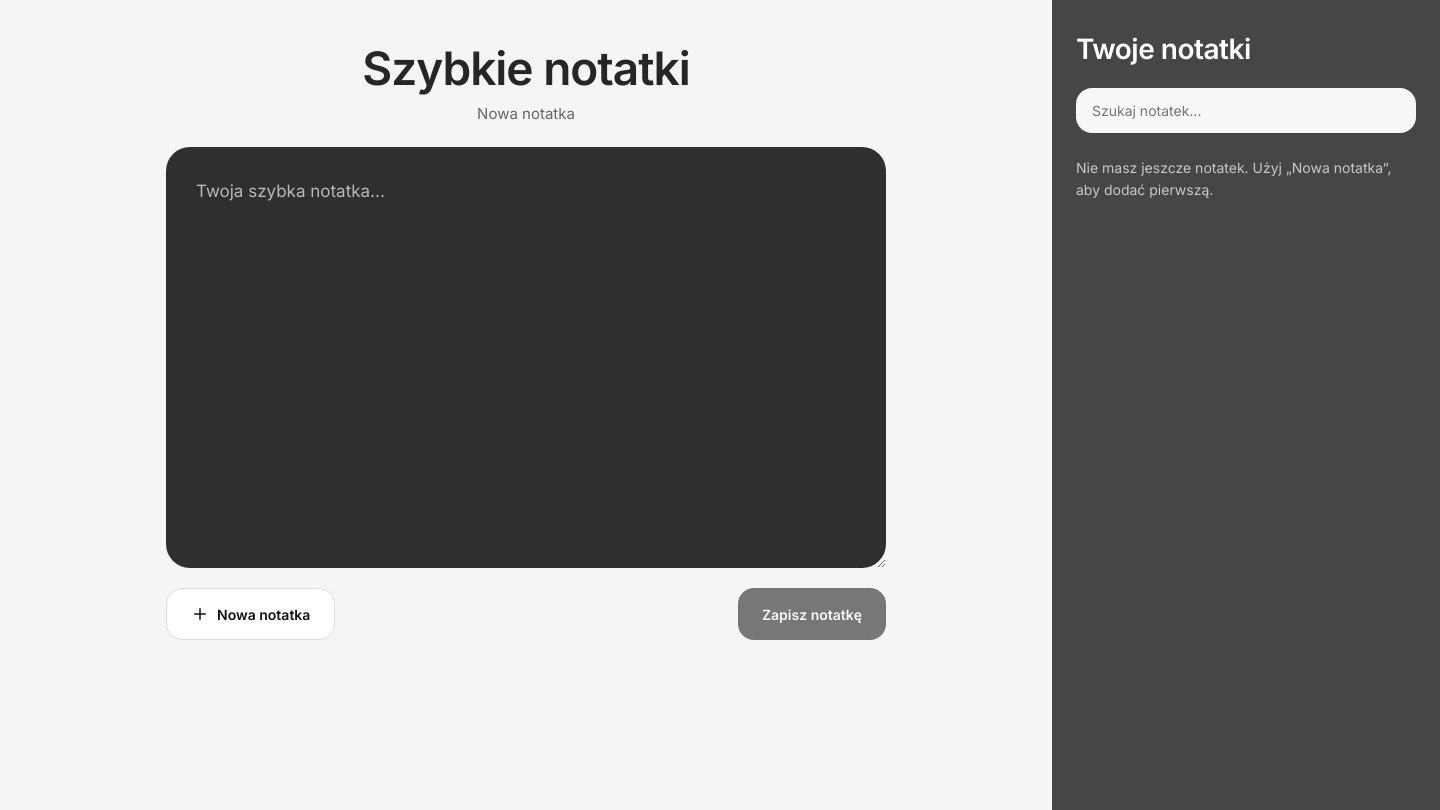
Test: Quicknotes › creates a new note
The width and height of the screenshot is (1440, 810).
Expected: the text "Nie masz jeszcze notatek" is shown, [1076,159,1392,198]
Type "Nowa notatka testowa" into the text box with placeholder "Twoja szybka notatka..." at (526, 358), box [166,147,886,568]
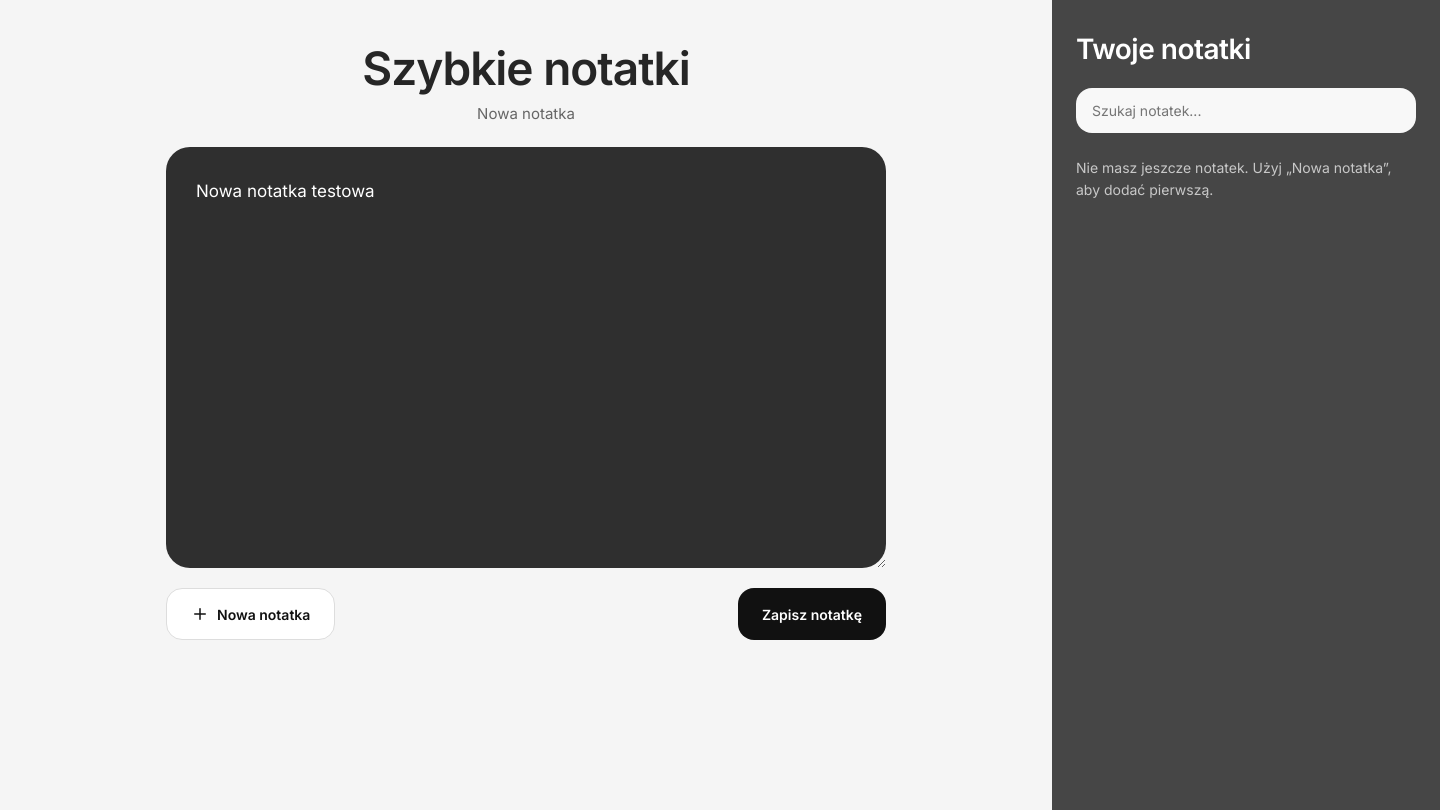
Click the button "Zapisz notatkę" at (812, 614), box [738,588,886,640]
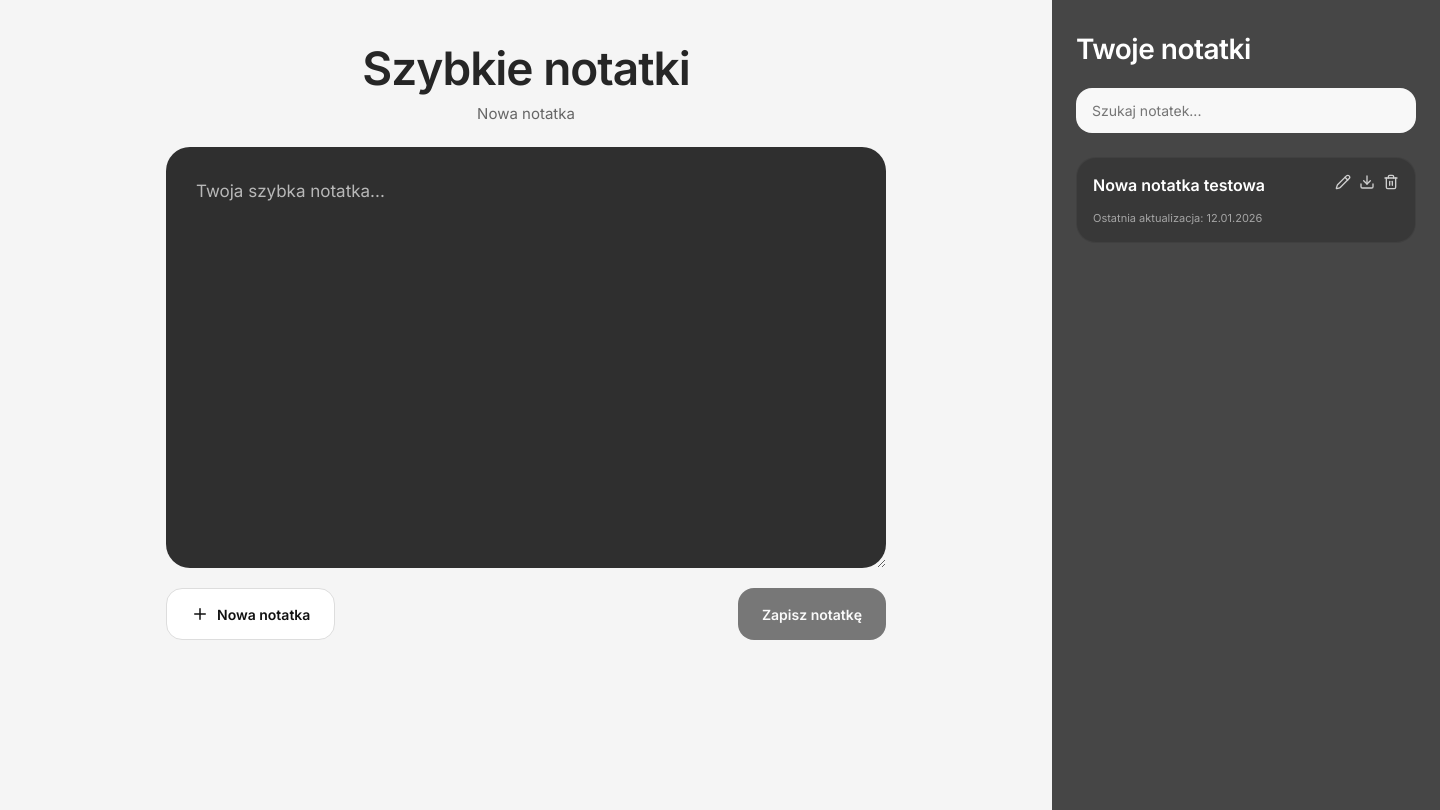
Expected: the heading "Nowa notatka testowa" is shown, [1093,175,1265,195]
